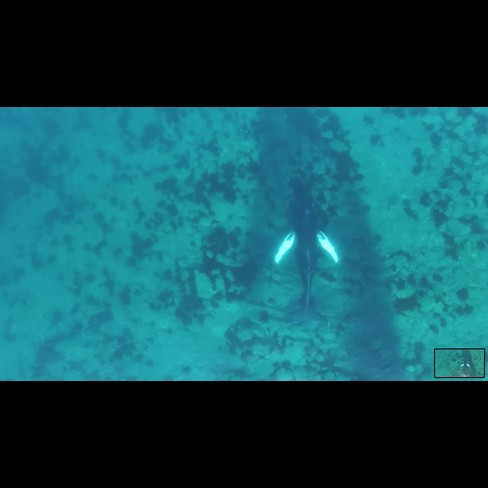hump: (270, 181, 341, 340)
